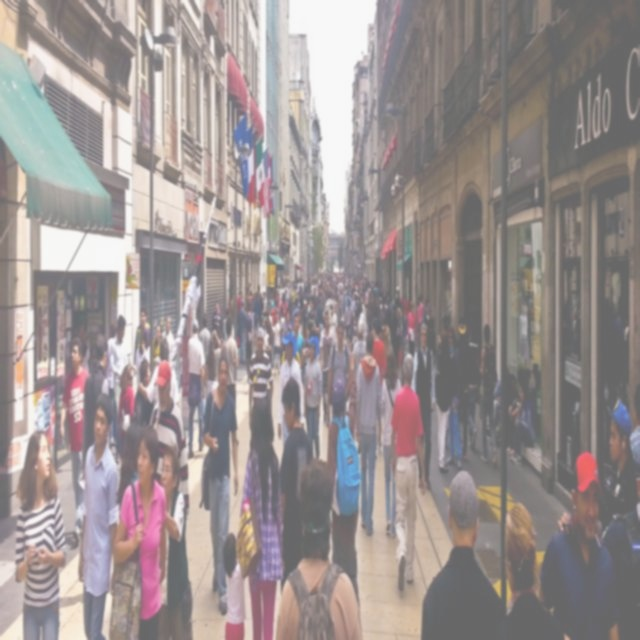pessoa: (274, 454, 366, 640), (418, 466, 512, 640), (538, 452, 620, 640), (108, 423, 168, 639), (12, 428, 68, 640), (237, 394, 285, 640), (76, 390, 120, 640), (497, 500, 567, 640), (202, 353, 239, 616), (389, 352, 426, 594), (326, 370, 362, 616), (599, 270, 640, 466), (278, 376, 314, 598), (156, 444, 194, 640), (598, 477, 640, 639), (150, 359, 190, 522), (60, 338, 90, 548), (355, 328, 383, 539), (602, 398, 640, 518), (410, 322, 436, 493), (220, 516, 254, 640), (82, 332, 110, 482), (380, 350, 402, 538), (507, 306, 540, 414), (284, 265, 368, 306), (248, 326, 274, 451), (137, 337, 180, 410), (278, 334, 304, 449), (71, 310, 110, 386), (478, 322, 498, 468), (109, 314, 128, 464), (326, 318, 351, 427), (187, 318, 206, 459), (222, 315, 240, 448), (454, 312, 470, 460), (446, 325, 462, 469), (304, 335, 322, 461), (510, 382, 536, 466), (372, 318, 386, 460), (438, 312, 452, 448), (104, 318, 118, 451), (117, 363, 135, 465), (466, 320, 480, 450), (319, 309, 334, 428), (131, 358, 155, 427), (202, 328, 223, 400), (368, 275, 398, 321), (133, 304, 150, 378), (133, 326, 151, 391), (352, 317, 368, 387), (487, 369, 502, 443), (115, 461, 138, 506), (300, 320, 314, 392), (390, 303, 402, 375), (212, 300, 224, 370), (244, 299, 254, 382), (424, 302, 436, 370), (264, 304, 276, 369), (228, 280, 252, 312), (292, 310, 304, 370), (271, 298, 281, 369), (407, 301, 418, 363), (379, 312, 392, 362), (198, 312, 211, 361), (238, 298, 247, 365), (161, 314, 175, 356), (292, 312, 304, 360), (308, 296, 320, 342), (347, 309, 360, 351), (152, 324, 162, 374), (273, 314, 281, 376), (344, 300, 354, 348), (343, 288, 352, 341), (264, 307, 272, 364), (417, 292, 425, 346), (328, 302, 338, 344), (280, 304, 286, 370), (223, 306, 234, 342), (253, 290, 260, 346), (437, 313, 448, 344), (258, 314, 270, 342), (558, 508, 572, 532), (404, 292, 410, 346), (290, 297, 300, 329), (279, 292, 288, 325), (237, 288, 242, 346), (324, 290, 335, 316), (258, 284, 264, 328), (262, 288, 268, 322), (284, 312, 292, 337), (511, 374, 517, 404), (394, 288, 402, 310), (278, 282, 284, 311), (290, 284, 296, 312), (294, 291, 302, 310), (246, 286, 253, 306), (352, 292, 358, 314), (274, 288, 280, 310), (270, 290, 276, 312), (362, 296, 367, 322), (284, 289, 290, 308), (285, 282, 289, 296)
